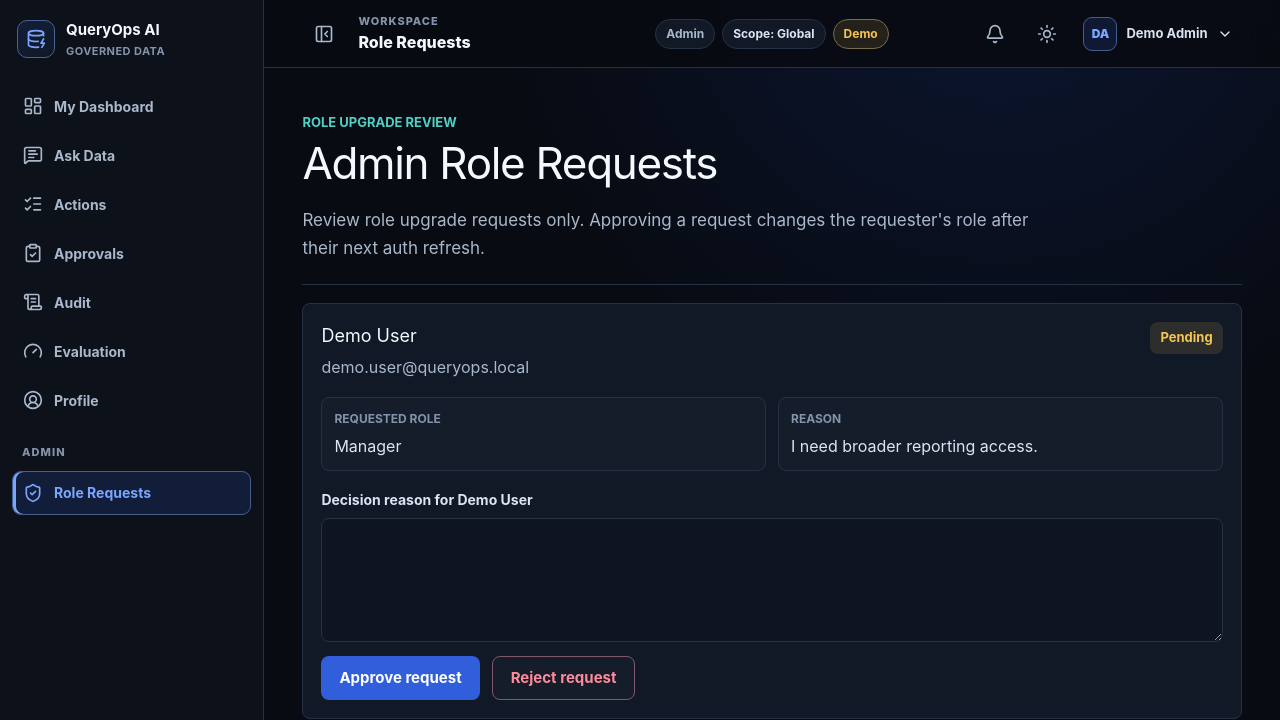
Test: Admin Role Requests › removes stale decision controls if conflict recovery cannot reload
Type "Review" into the text box labelled "Decision reason for Demo User". click: (772, 580)
box: [321,518,1223,642]
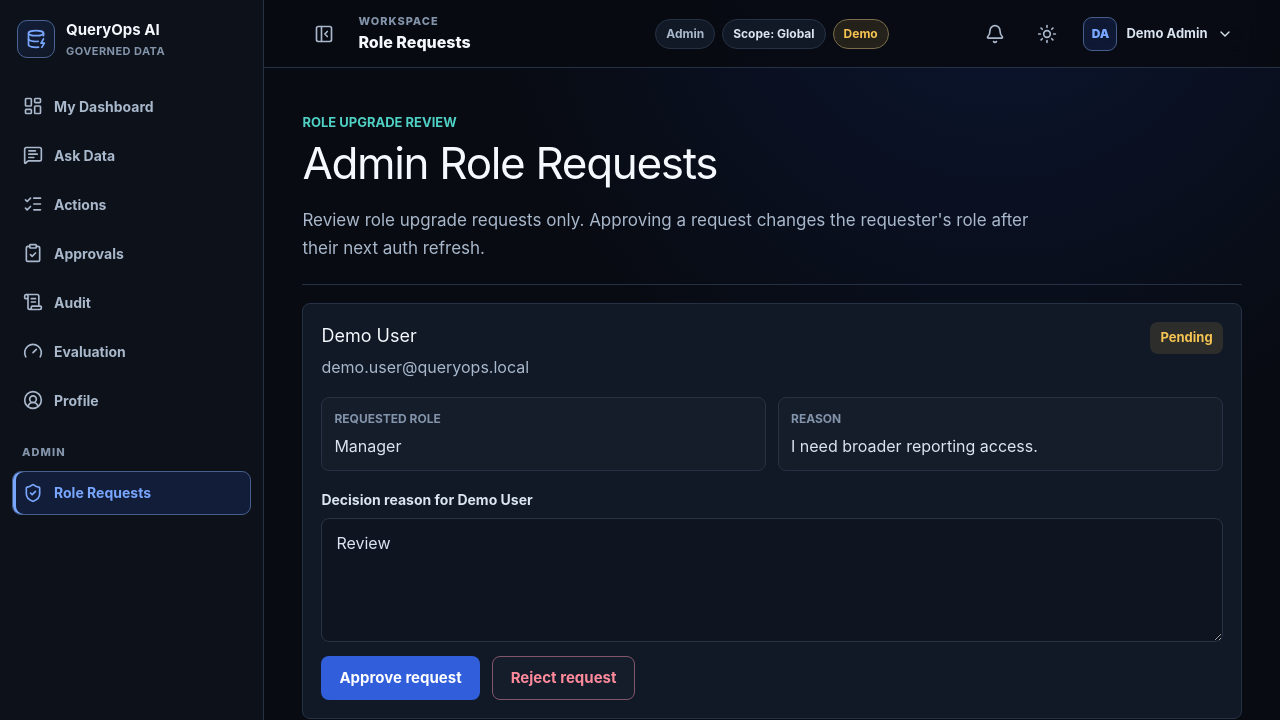
Click the button with aria-label "Approve role request from Demo User". click: (401, 678)
box: [321,656,480,700]
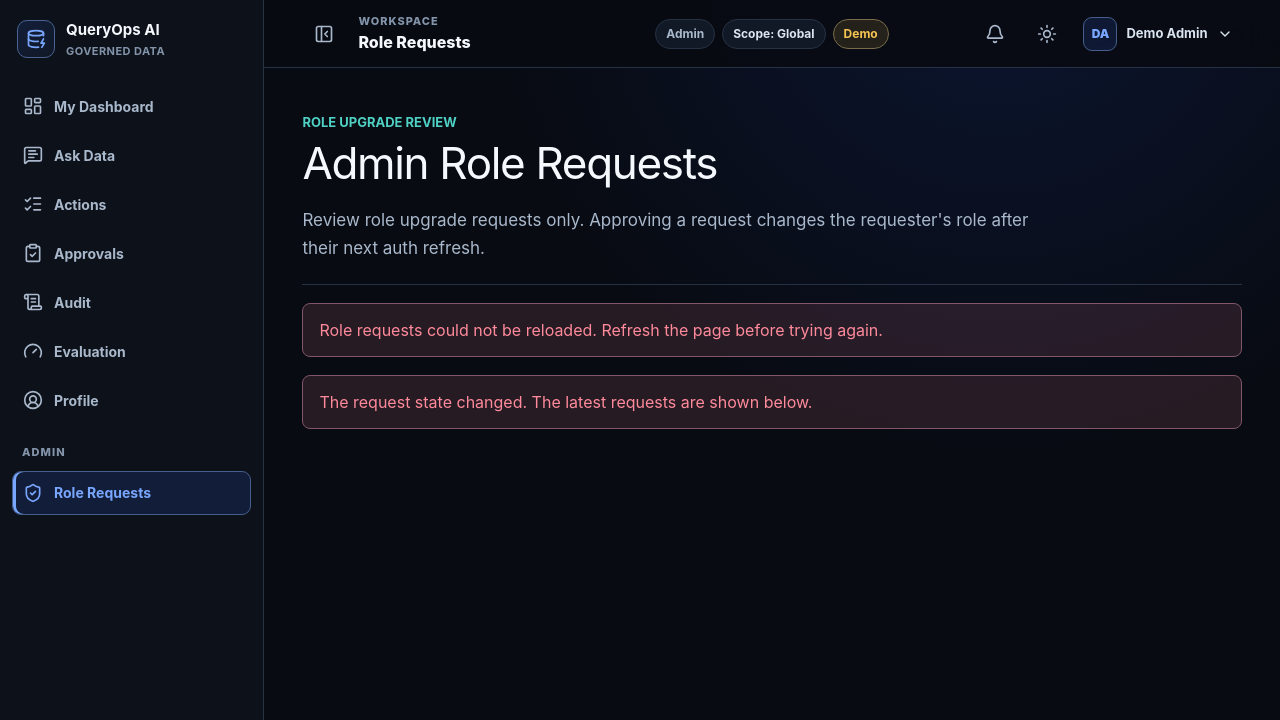
Check: the text "Role requests could not be reloaded. Refresh the page before trying again." is shown, box [302,303,1242,357]
